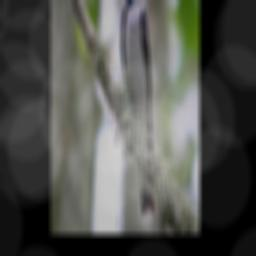Swallow: (120, 0, 156, 218)
